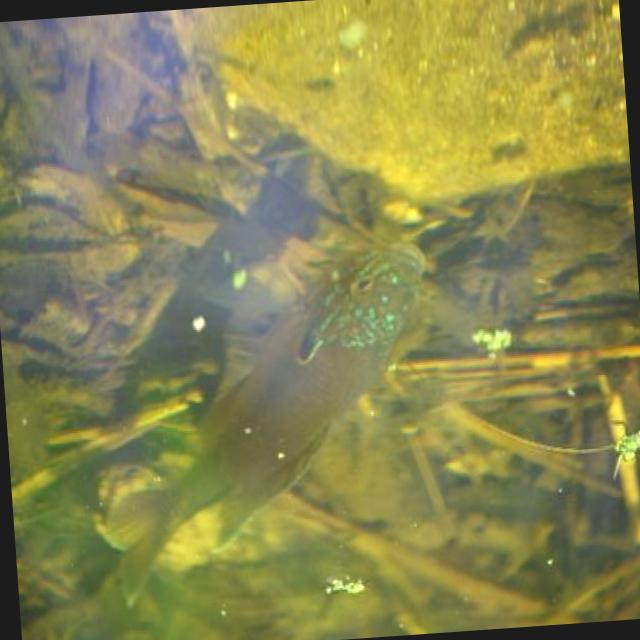Gunes Levregi: (75, 236, 448, 611)
